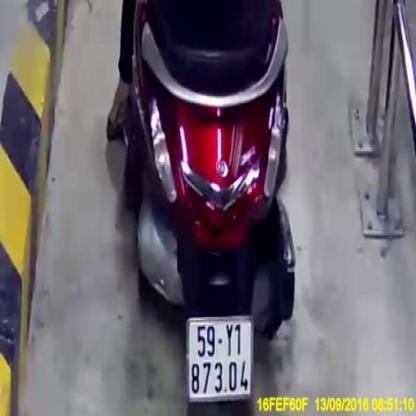Xemay: (186, 315, 255, 403)
